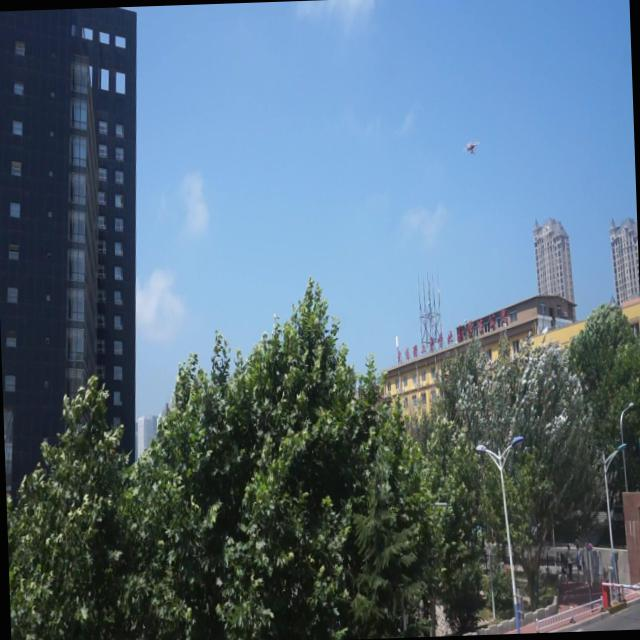drone: (462, 136, 480, 158)
